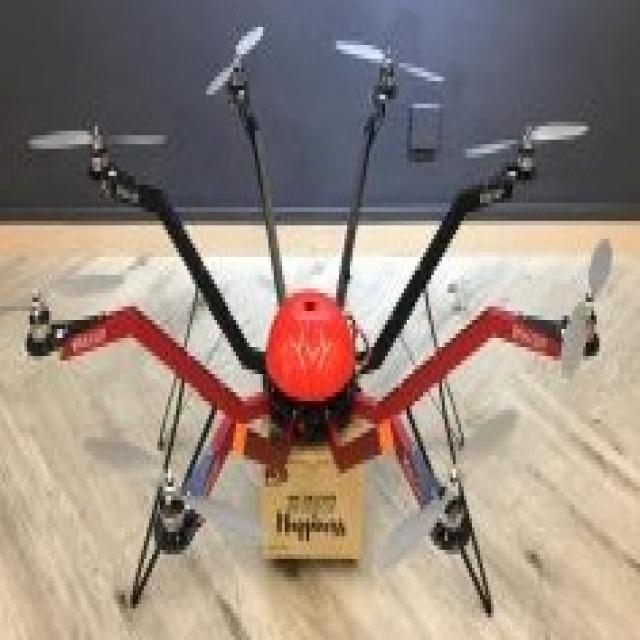drone: (25, 15, 637, 622)
